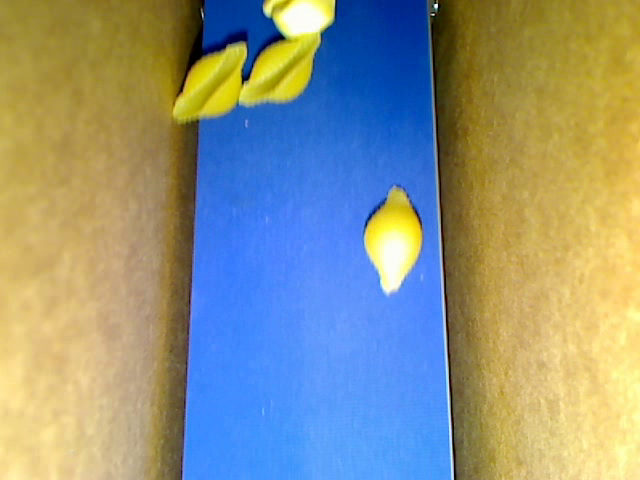shell: (363, 184, 422, 293), (239, 33, 320, 107), (174, 41, 246, 121)
tortellini: (263, 1, 336, 39)
